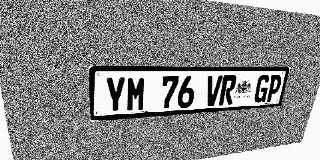6: (177, 76, 196, 108)
7: (159, 76, 179, 110)
G: (253, 75, 271, 103)
M: (126, 77, 146, 112)
P: (265, 75, 283, 102)
R: (218, 75, 237, 105)
V: (204, 76, 223, 106)
Y: (104, 77, 126, 113)
